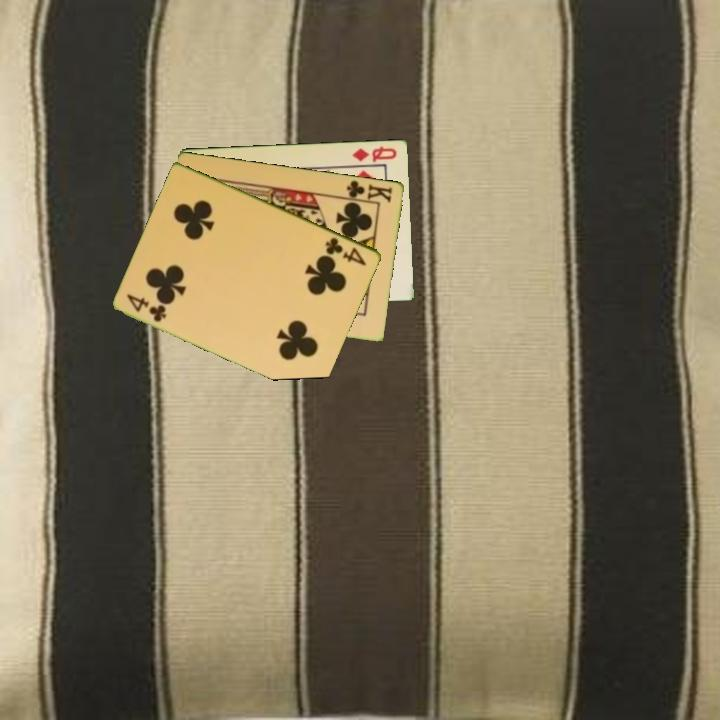4c: (322, 234, 370, 269), (123, 290, 170, 325)
Kc: (340, 176, 395, 205)
Qd: (349, 142, 400, 165)
